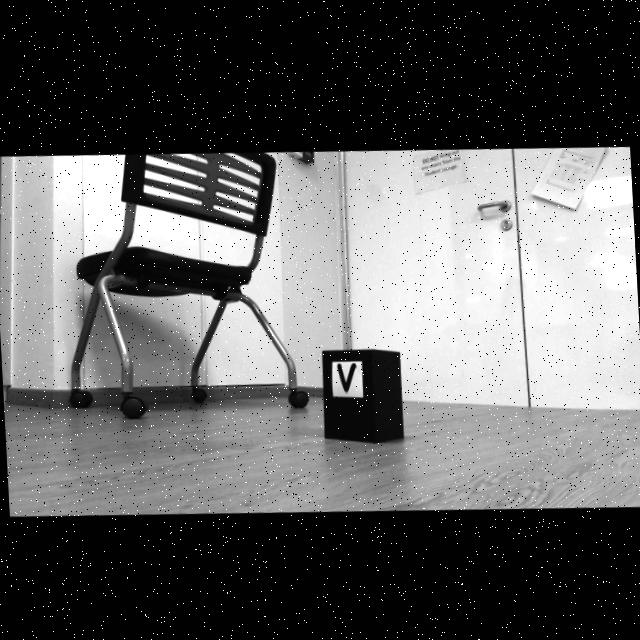V: (338, 361, 356, 390)
